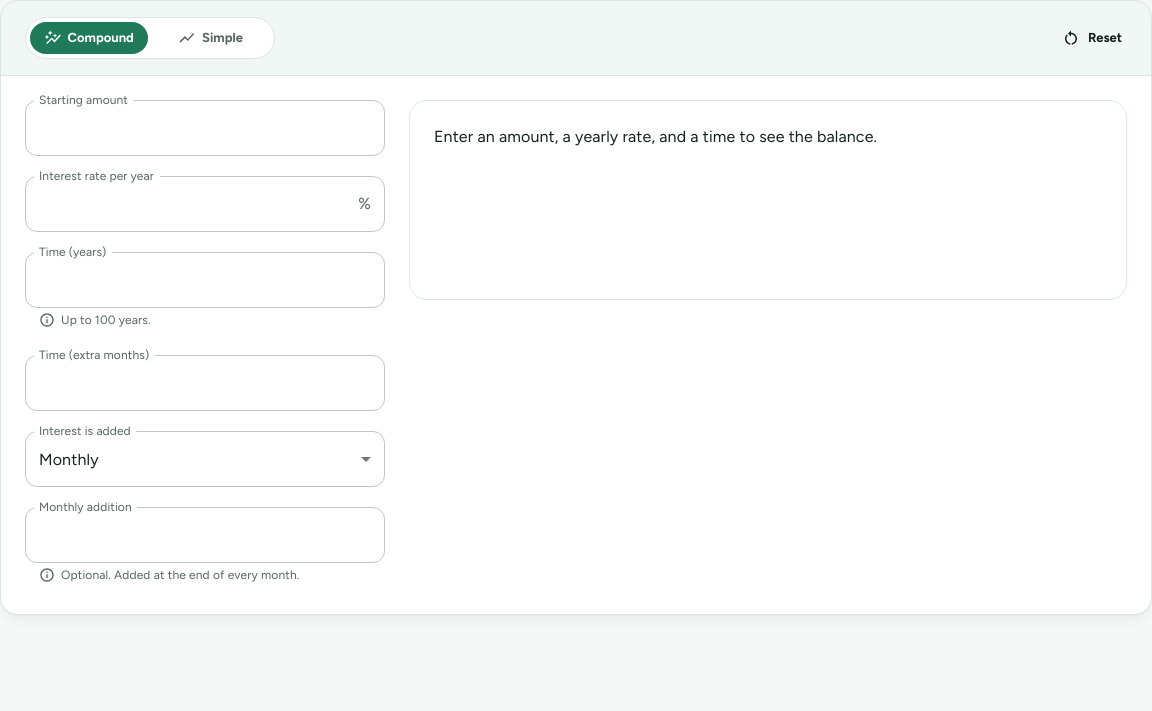
InterestCalculatorTool › adds a monthly amount
Type "10000" into the number field labelled "Starting amount". click: (205, 128)
box: [25,100,385,156]
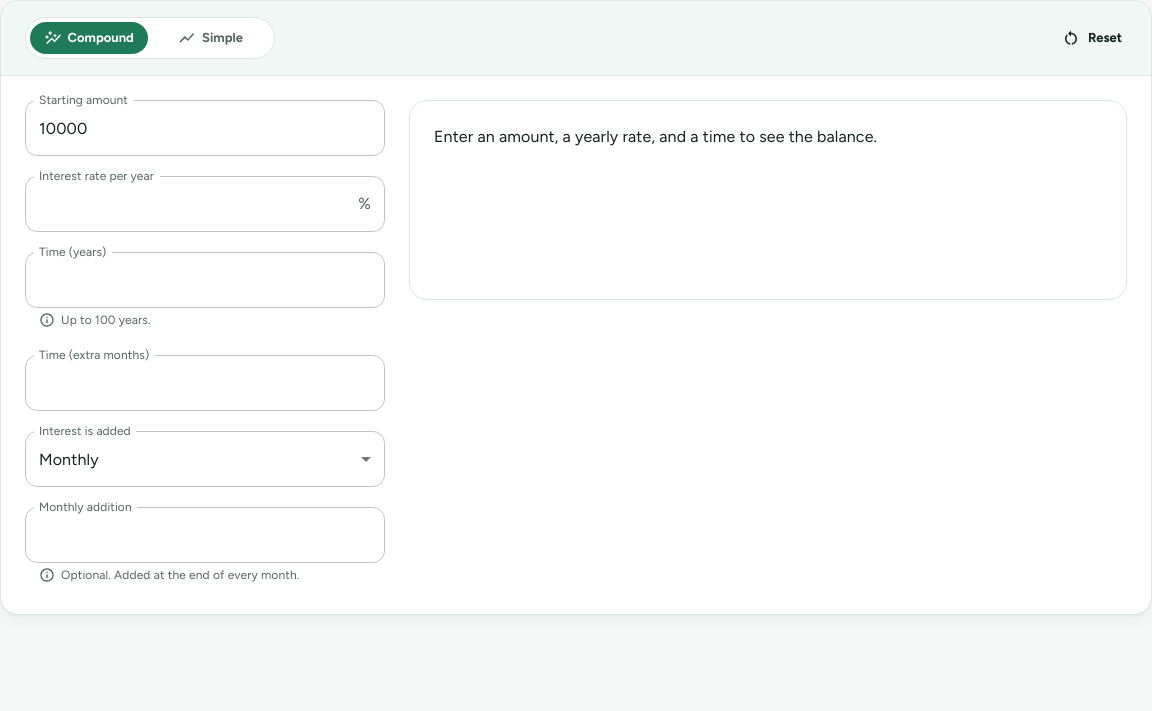
Type "5" into the number field labelled "Interest rate per year". click: (188, 204)
box: [25,176,350,232]
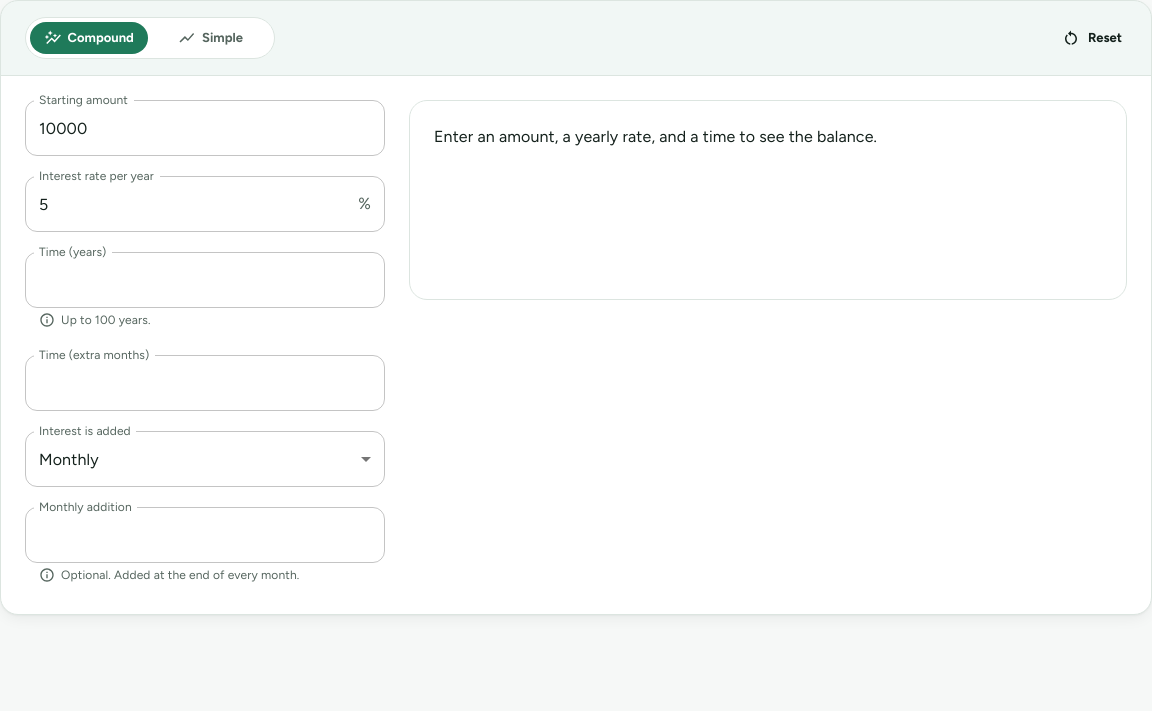
Type "10" into the number field labelled "Time (years)". click: (205, 280)
box: [25,252,385,308]
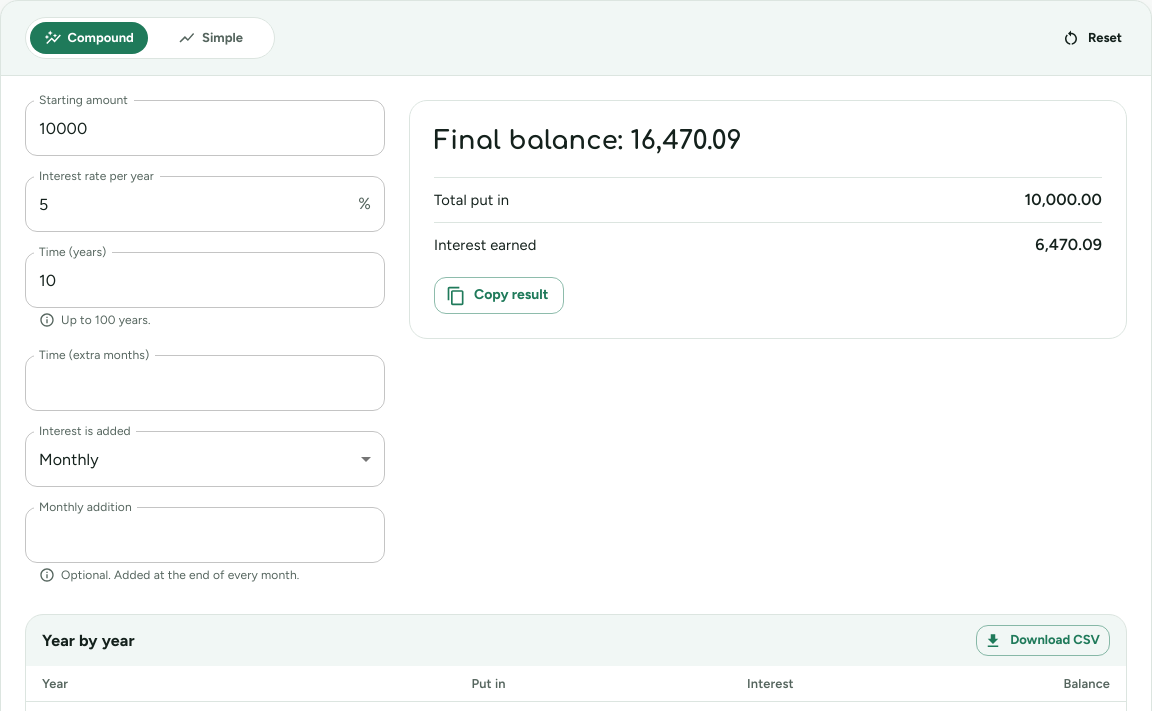
Type "200" into the number field labelled "Monthly addition". click: (205, 535)
box: [25,507,385,563]
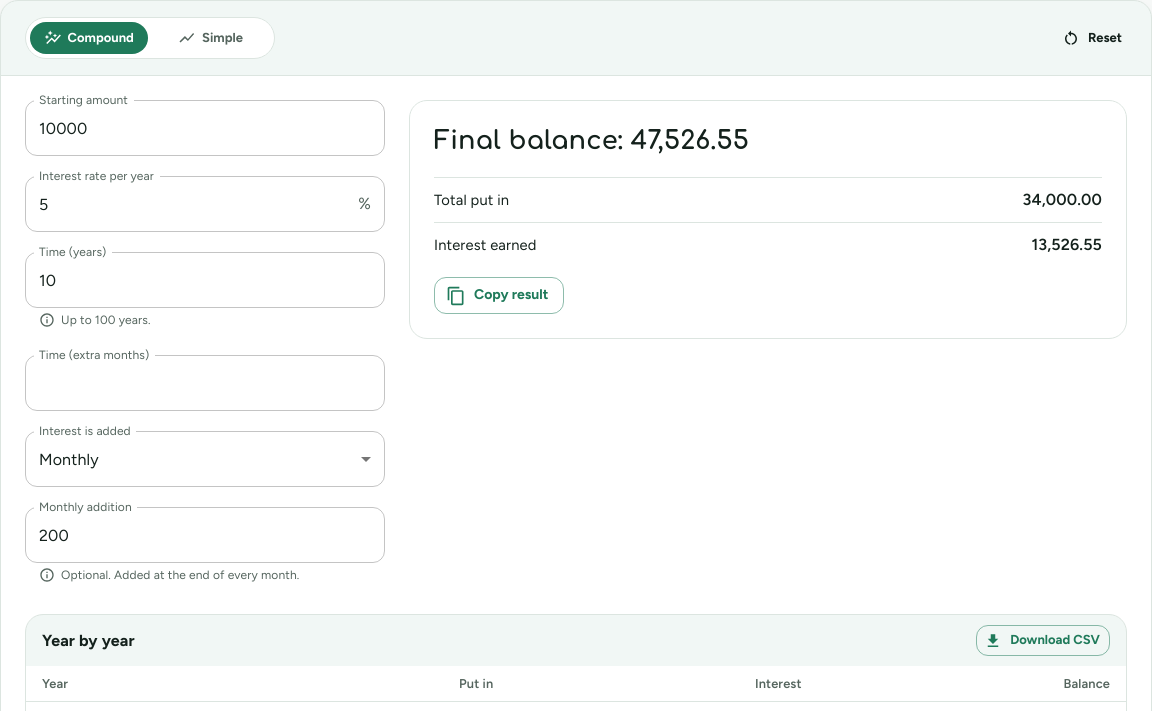
Result: the text "Final balance: 47,526.55" is shown at [434,126,749,155]
